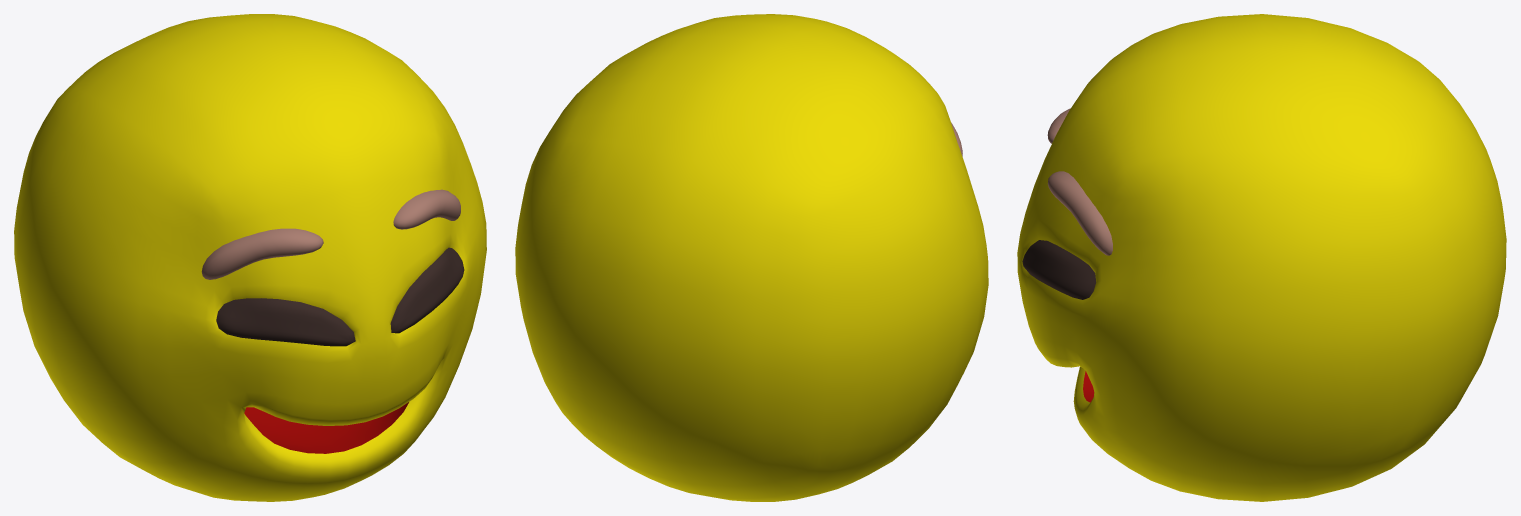
File: Emojis1.fbx
The picture shows the model from 3 angles, left to right: view 1: azimuth 30°, elevation 25°; view 2: azimuth 150°, elevation 25°; view 3: azimuth 270°, elevation 25°; orthographic projection.
Visible parts, largest first — view 1: Emoji 10 Happy; view 2: Emoji 10 Happy; view 3: Emoji 10 Happy.
Boxes of the visible parts, x1,y1,x2,y2 form: Emoji 10 Happy: (14,14,486,501); Emoji 10 Happy: (515,14,988,501); Emoji 10 Happy: (1017,14,1506,501).
Bounding box in the file's own units: 156 × 159 × 160.
